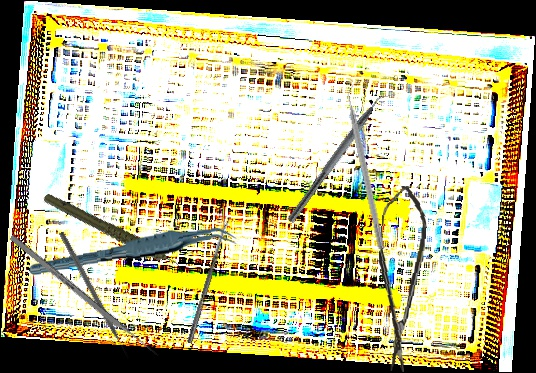Chopper: (286, 82, 398, 231), (343, 82, 394, 250)
Handpiece: (41, 167, 187, 302)
Hook Surgical: (57, 230, 132, 361)
Micro Scissor: (369, 184, 430, 373)
Pusher: (8, 234, 161, 359)
Surgical Spoon: (186, 216, 232, 344)
Tissue Forceps: (27, 225, 239, 277)
